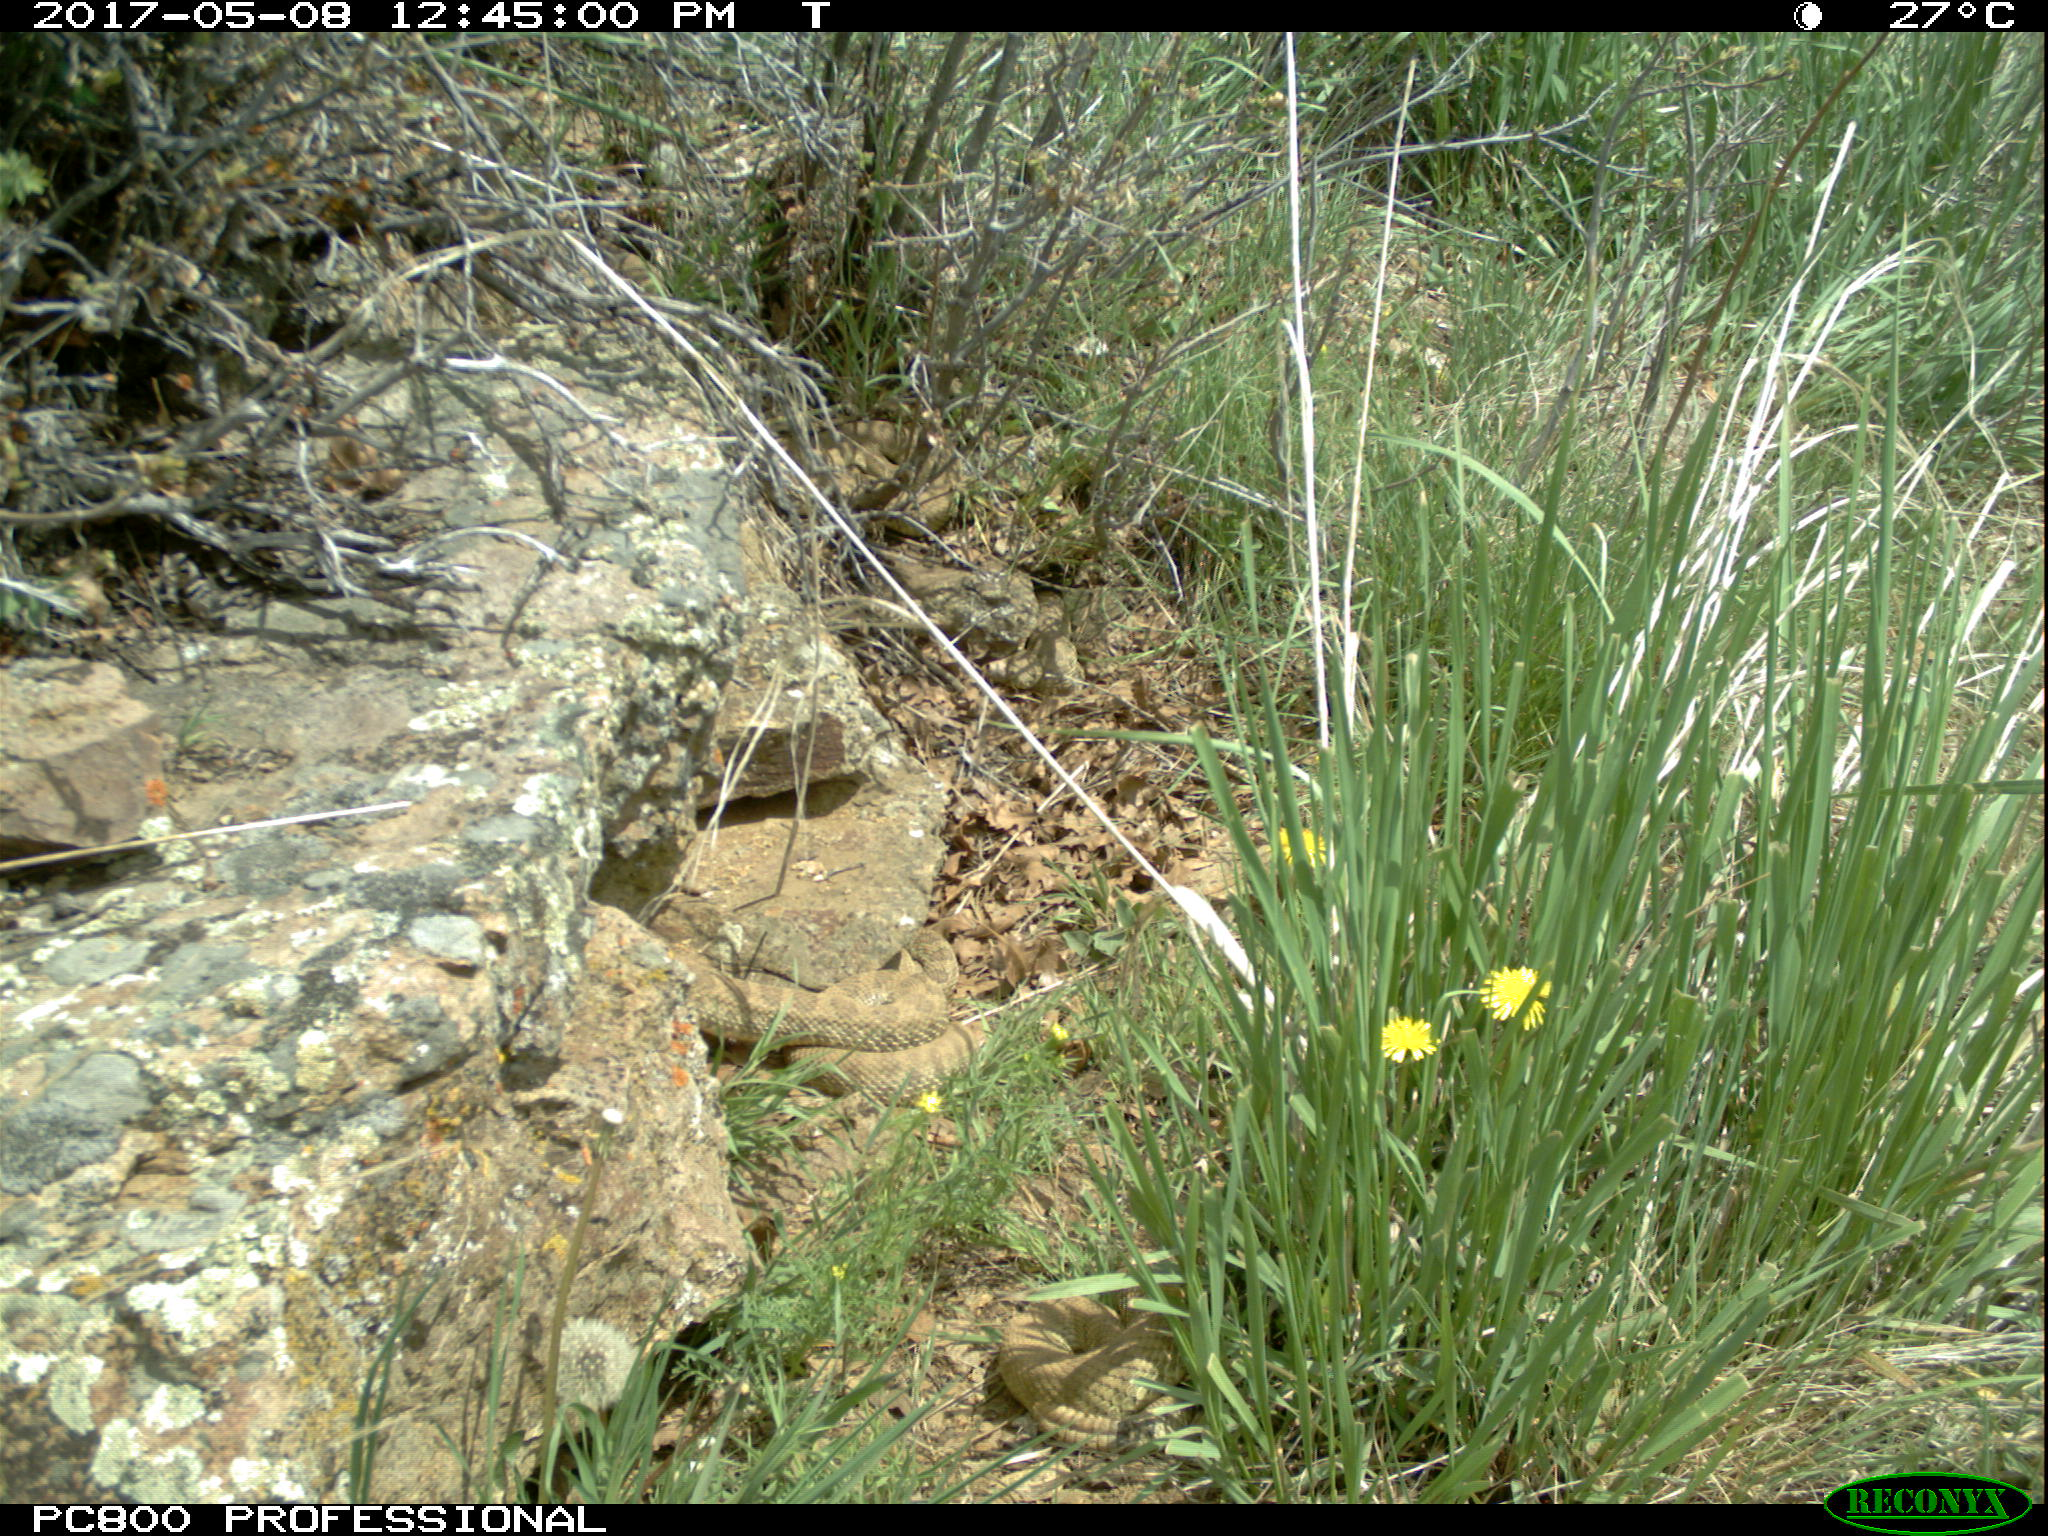snake: (684, 918, 974, 1100), (998, 1289, 1197, 1450), (842, 419, 968, 537)
